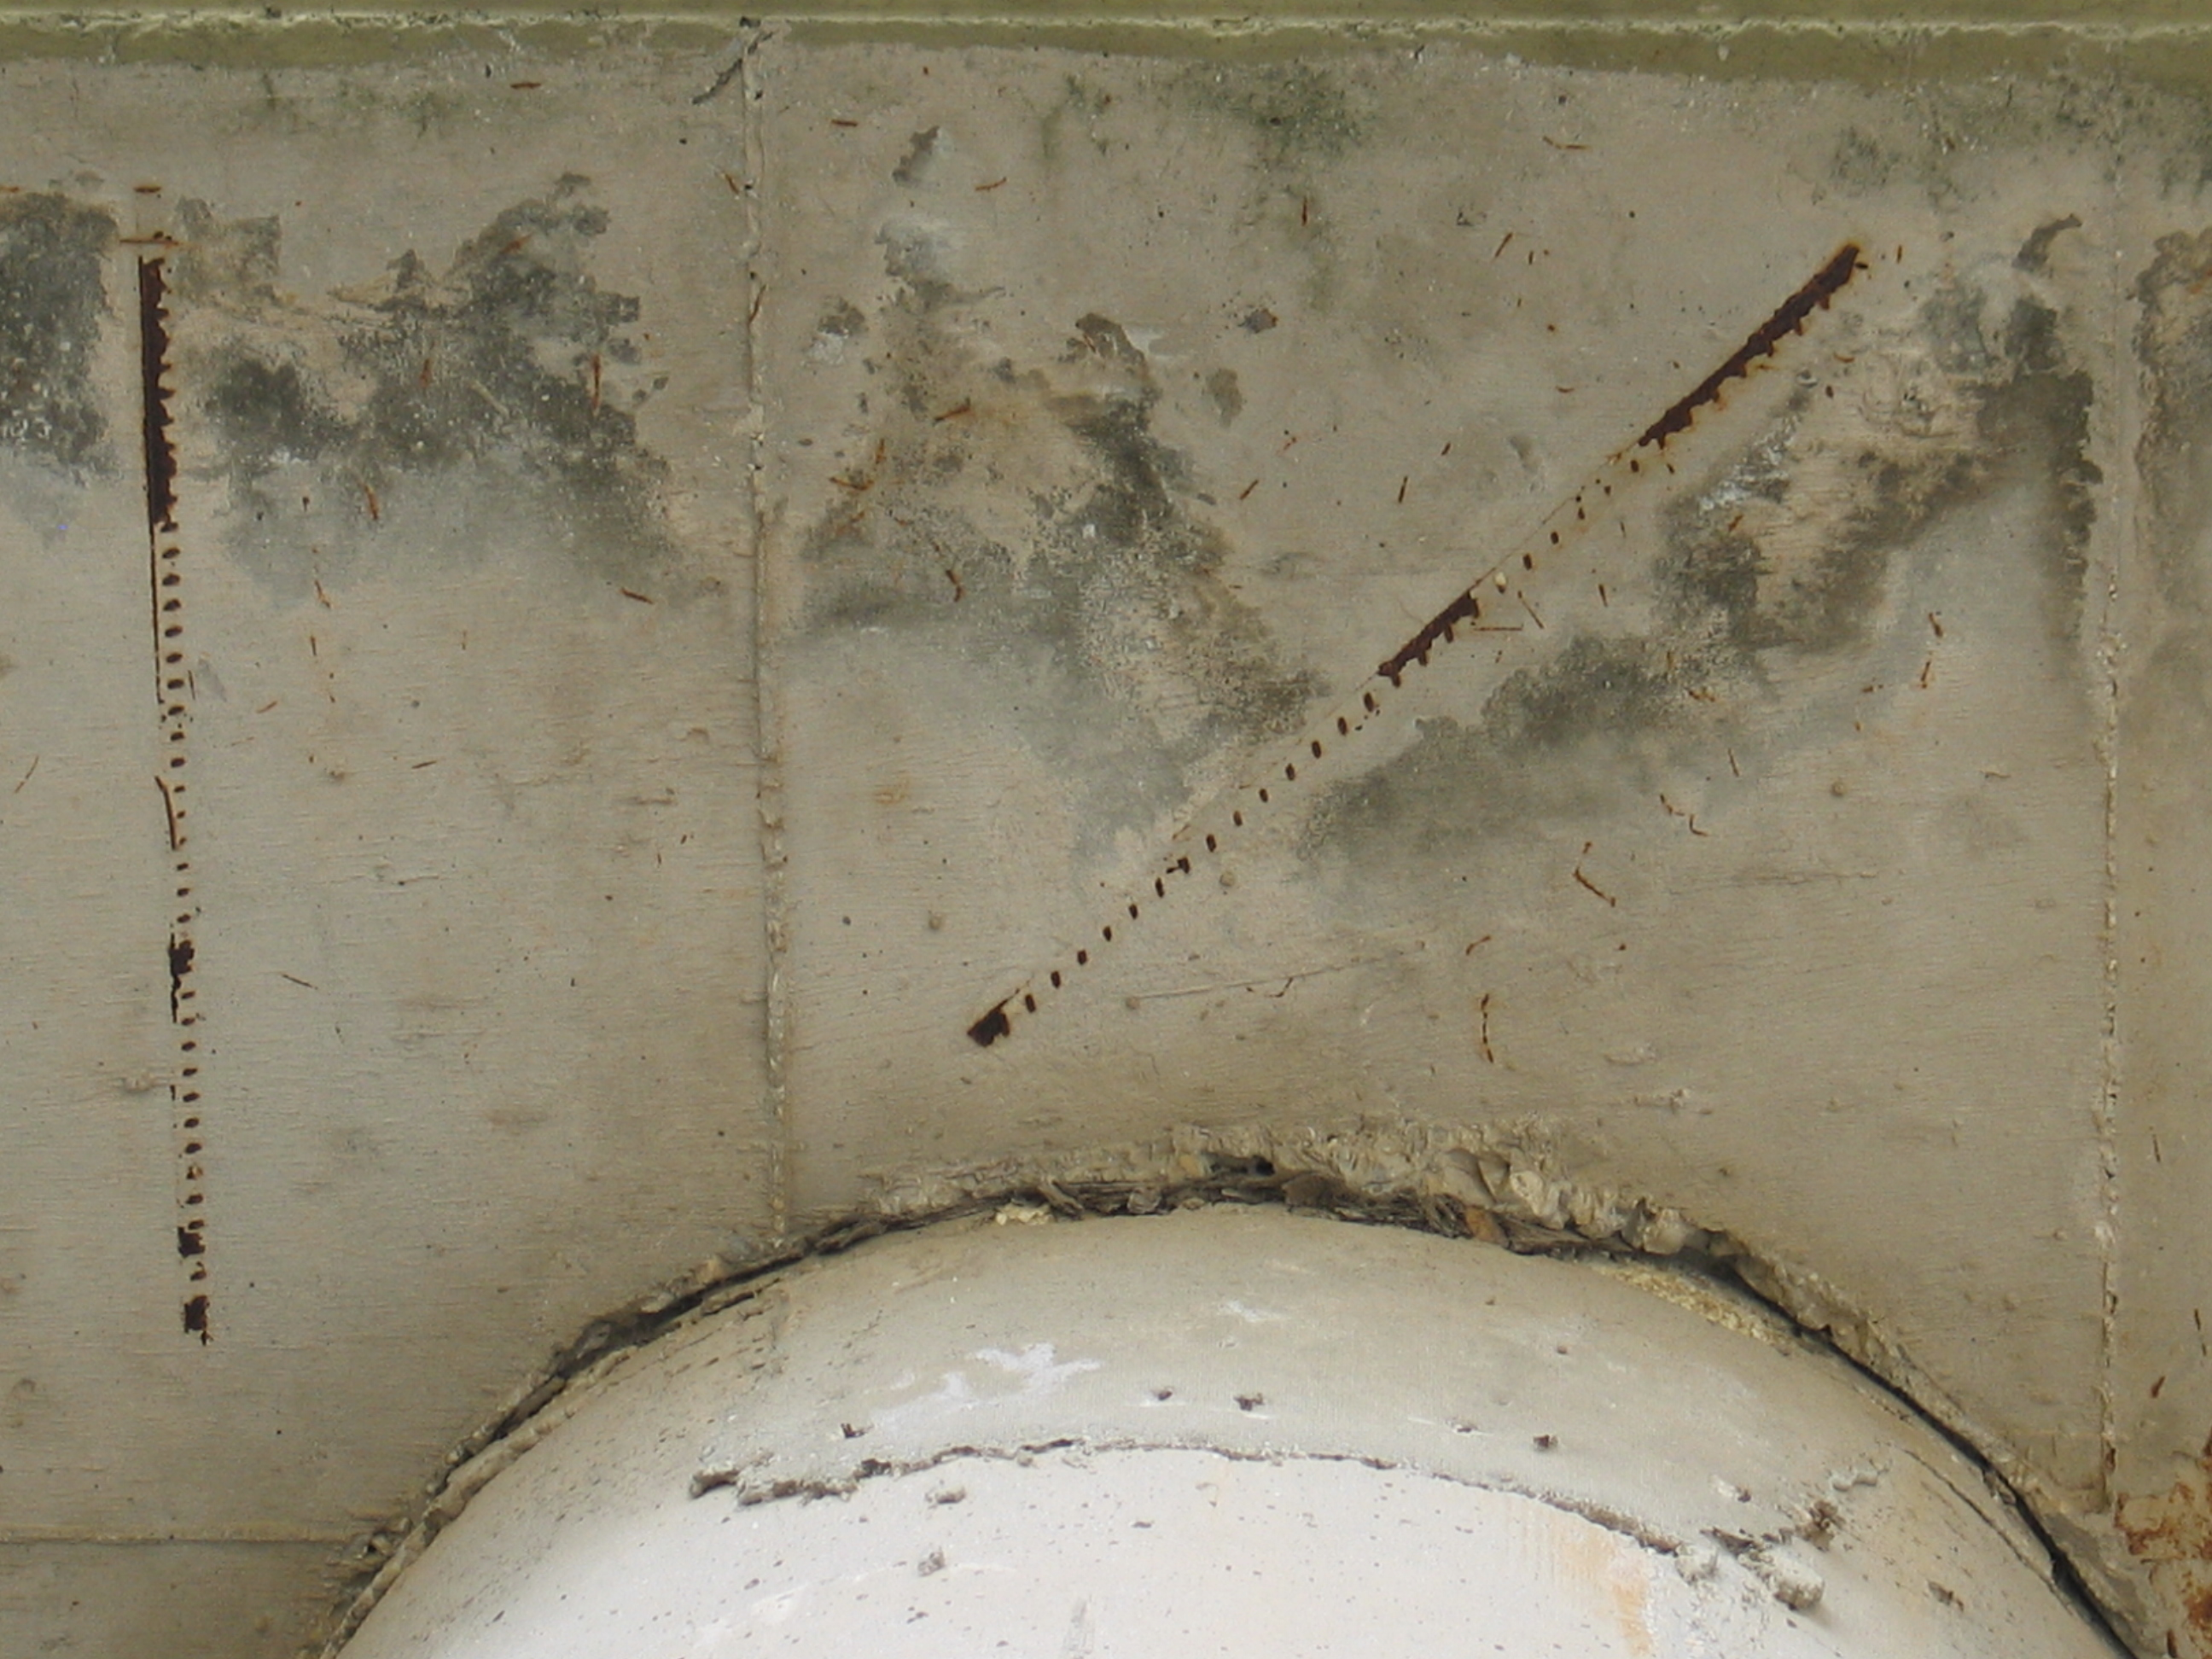defect: (963, 235, 1869, 1056), (120, 186, 214, 1340)
